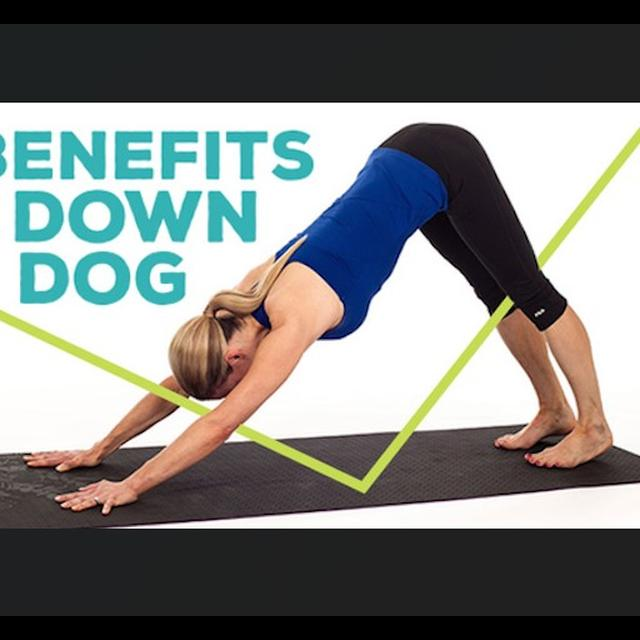Downward-Facing_Dog: (16, 119, 619, 515)
